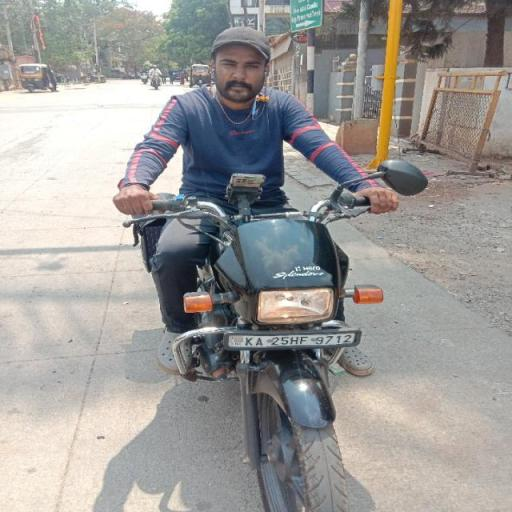bike: (111, 23, 393, 502)
numberplate: (227, 330, 360, 348)
withouthelmet: (213, 28, 275, 102)
